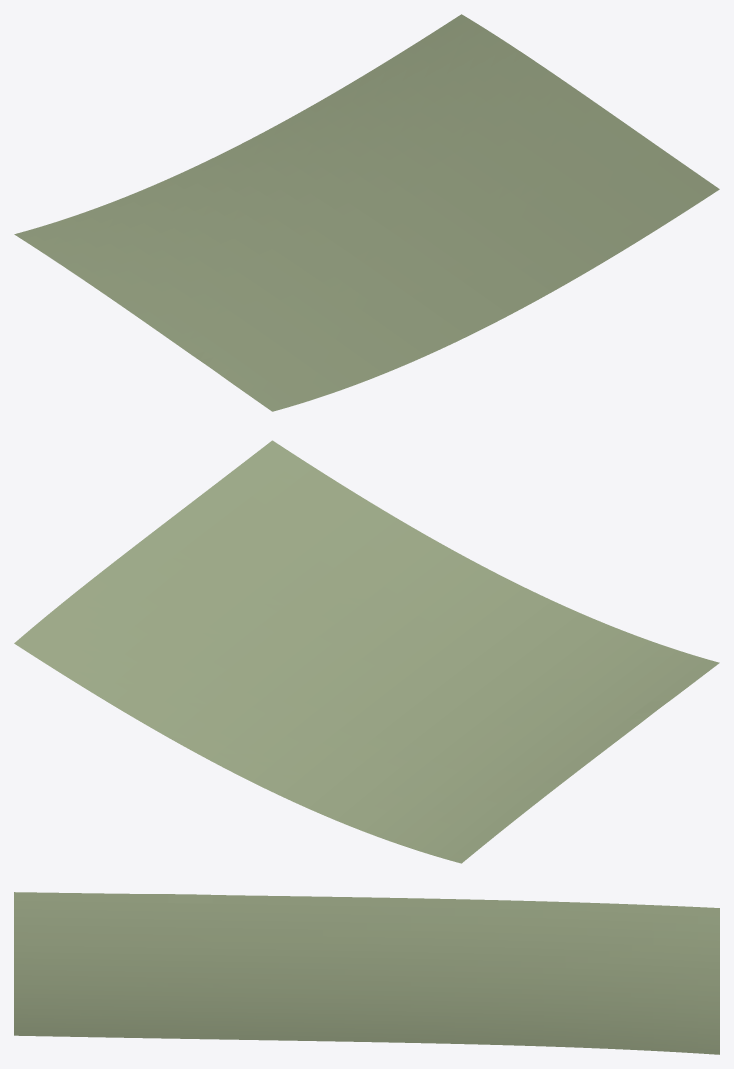
The model's file is expanse-24-12.glb.
3 views of the same model, one above another, from view 1: azimuth 30°, elevation 25°; view 2: azimuth 150°, elevation 25°; view 3: azimuth 270°, elevation 25° (orthographic). The views are drawn at different scales.
Parts seen in each view (by area): view 1: expanse-24-12; view 2: expanse-24-12; view 3: expanse-24-12.
Boxes of the visible parts, x1,y1,x2,y2 form: expanse-24-12: (14,14,719,411); expanse-24-12: (14,440,719,863); expanse-24-12: (14,892,719,1054).
Bounding box in the file's own units: 256 × 68.31 × 256.
